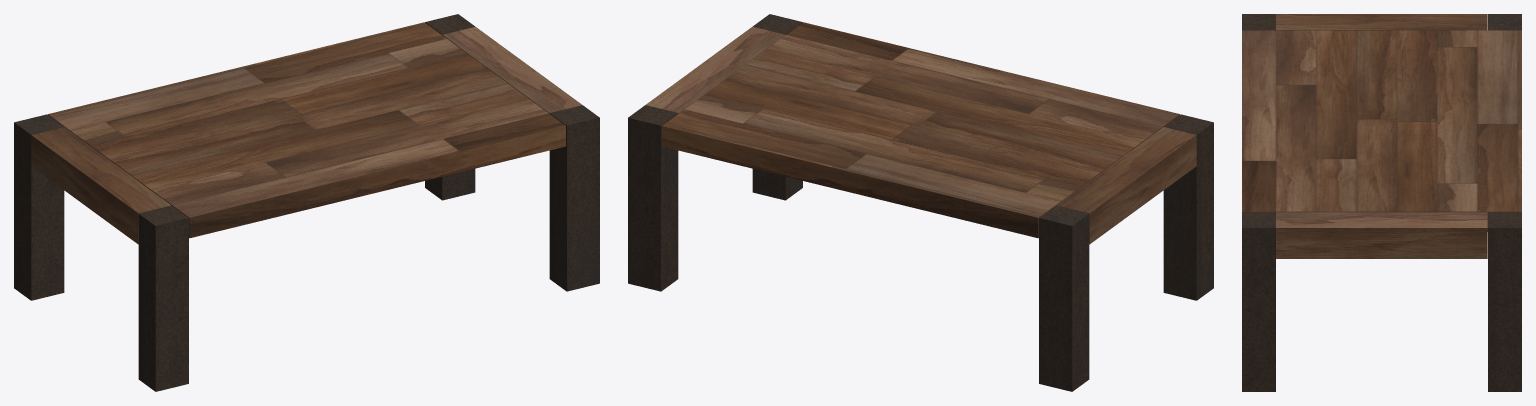
Rendered from Max_model_DinningTable.fbx.
3 renders of one model, left to right at view 1: azimuth 30°, elevation 25°; view 2: azimuth 150°, elevation 25°; view 3: azimuth 270°, elevation 25°, orthographic.
Visible parts, largest first — view 1: DinningTable; view 2: DinningTable; view 3: DinningTable.
Boxes of the visible parts, x1=… form: DinningTable: x1=14, y1=14, x2=599, y2=391; DinningTable: x1=628, y1=14, x2=1213, y2=391; DinningTable: x1=1242, y1=14, x2=1521, y2=391.
Bounding box in the file's own units: 222 × 79.32 × 123.
